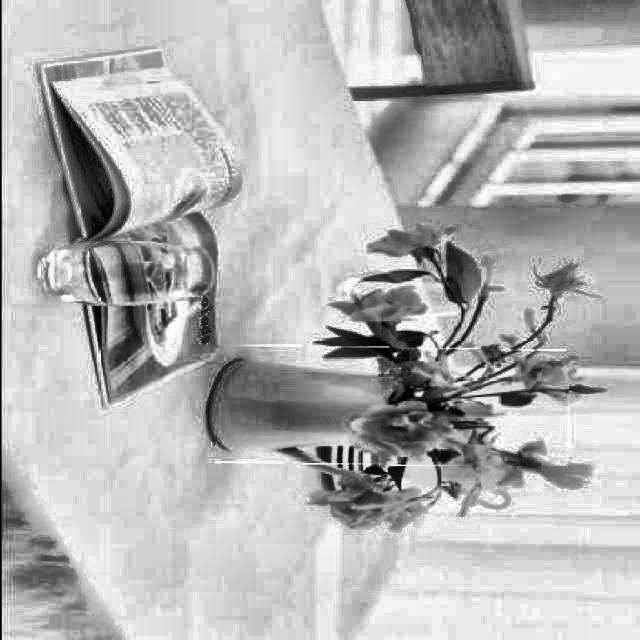plants: (213, 346, 567, 466)
